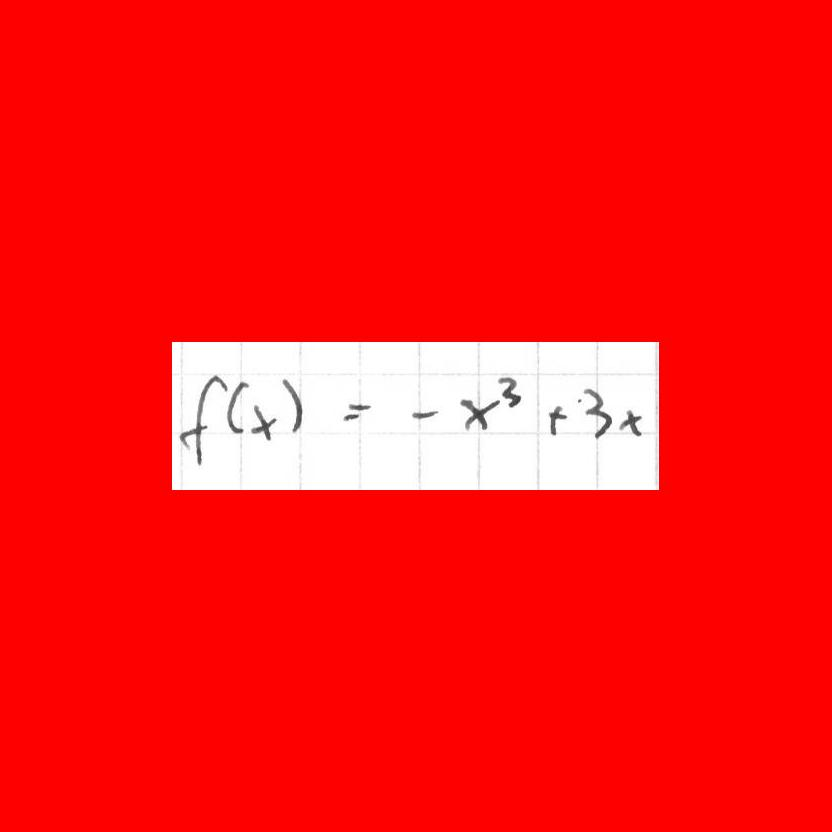Char: (183, 371, 227, 468), (578, 382, 617, 441), (280, 372, 312, 438), (455, 392, 502, 435), (225, 374, 249, 436), (248, 396, 279, 441), (493, 372, 526, 412), (544, 398, 574, 437), (618, 405, 652, 438), (339, 395, 376, 425), (408, 400, 440, 421)
